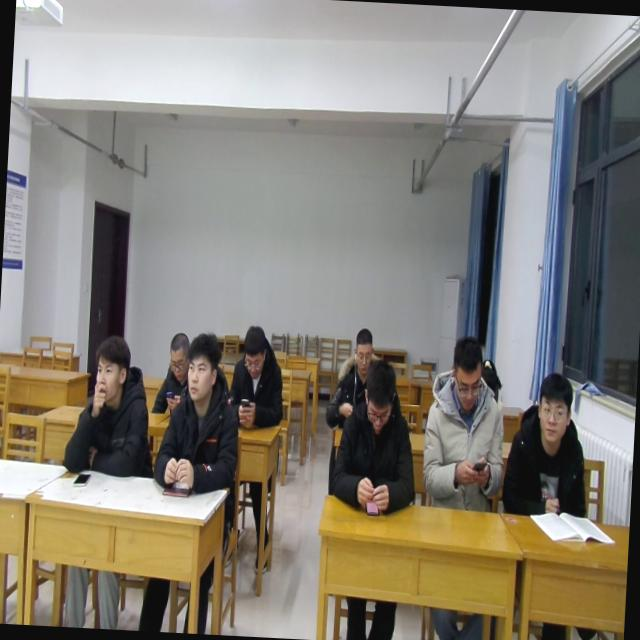bow: (225, 324, 289, 433)
down: (447, 333, 488, 415), (358, 356, 397, 434), (240, 321, 270, 382), (165, 328, 192, 386), (349, 324, 373, 376)
lookup: (86, 331, 132, 416), (182, 324, 226, 406), (532, 368, 574, 449)
sit: (422, 333, 512, 513), (152, 330, 246, 500), (328, 356, 427, 516), (501, 367, 596, 519), (62, 329, 156, 480), (321, 321, 382, 432), (150, 328, 193, 418)
